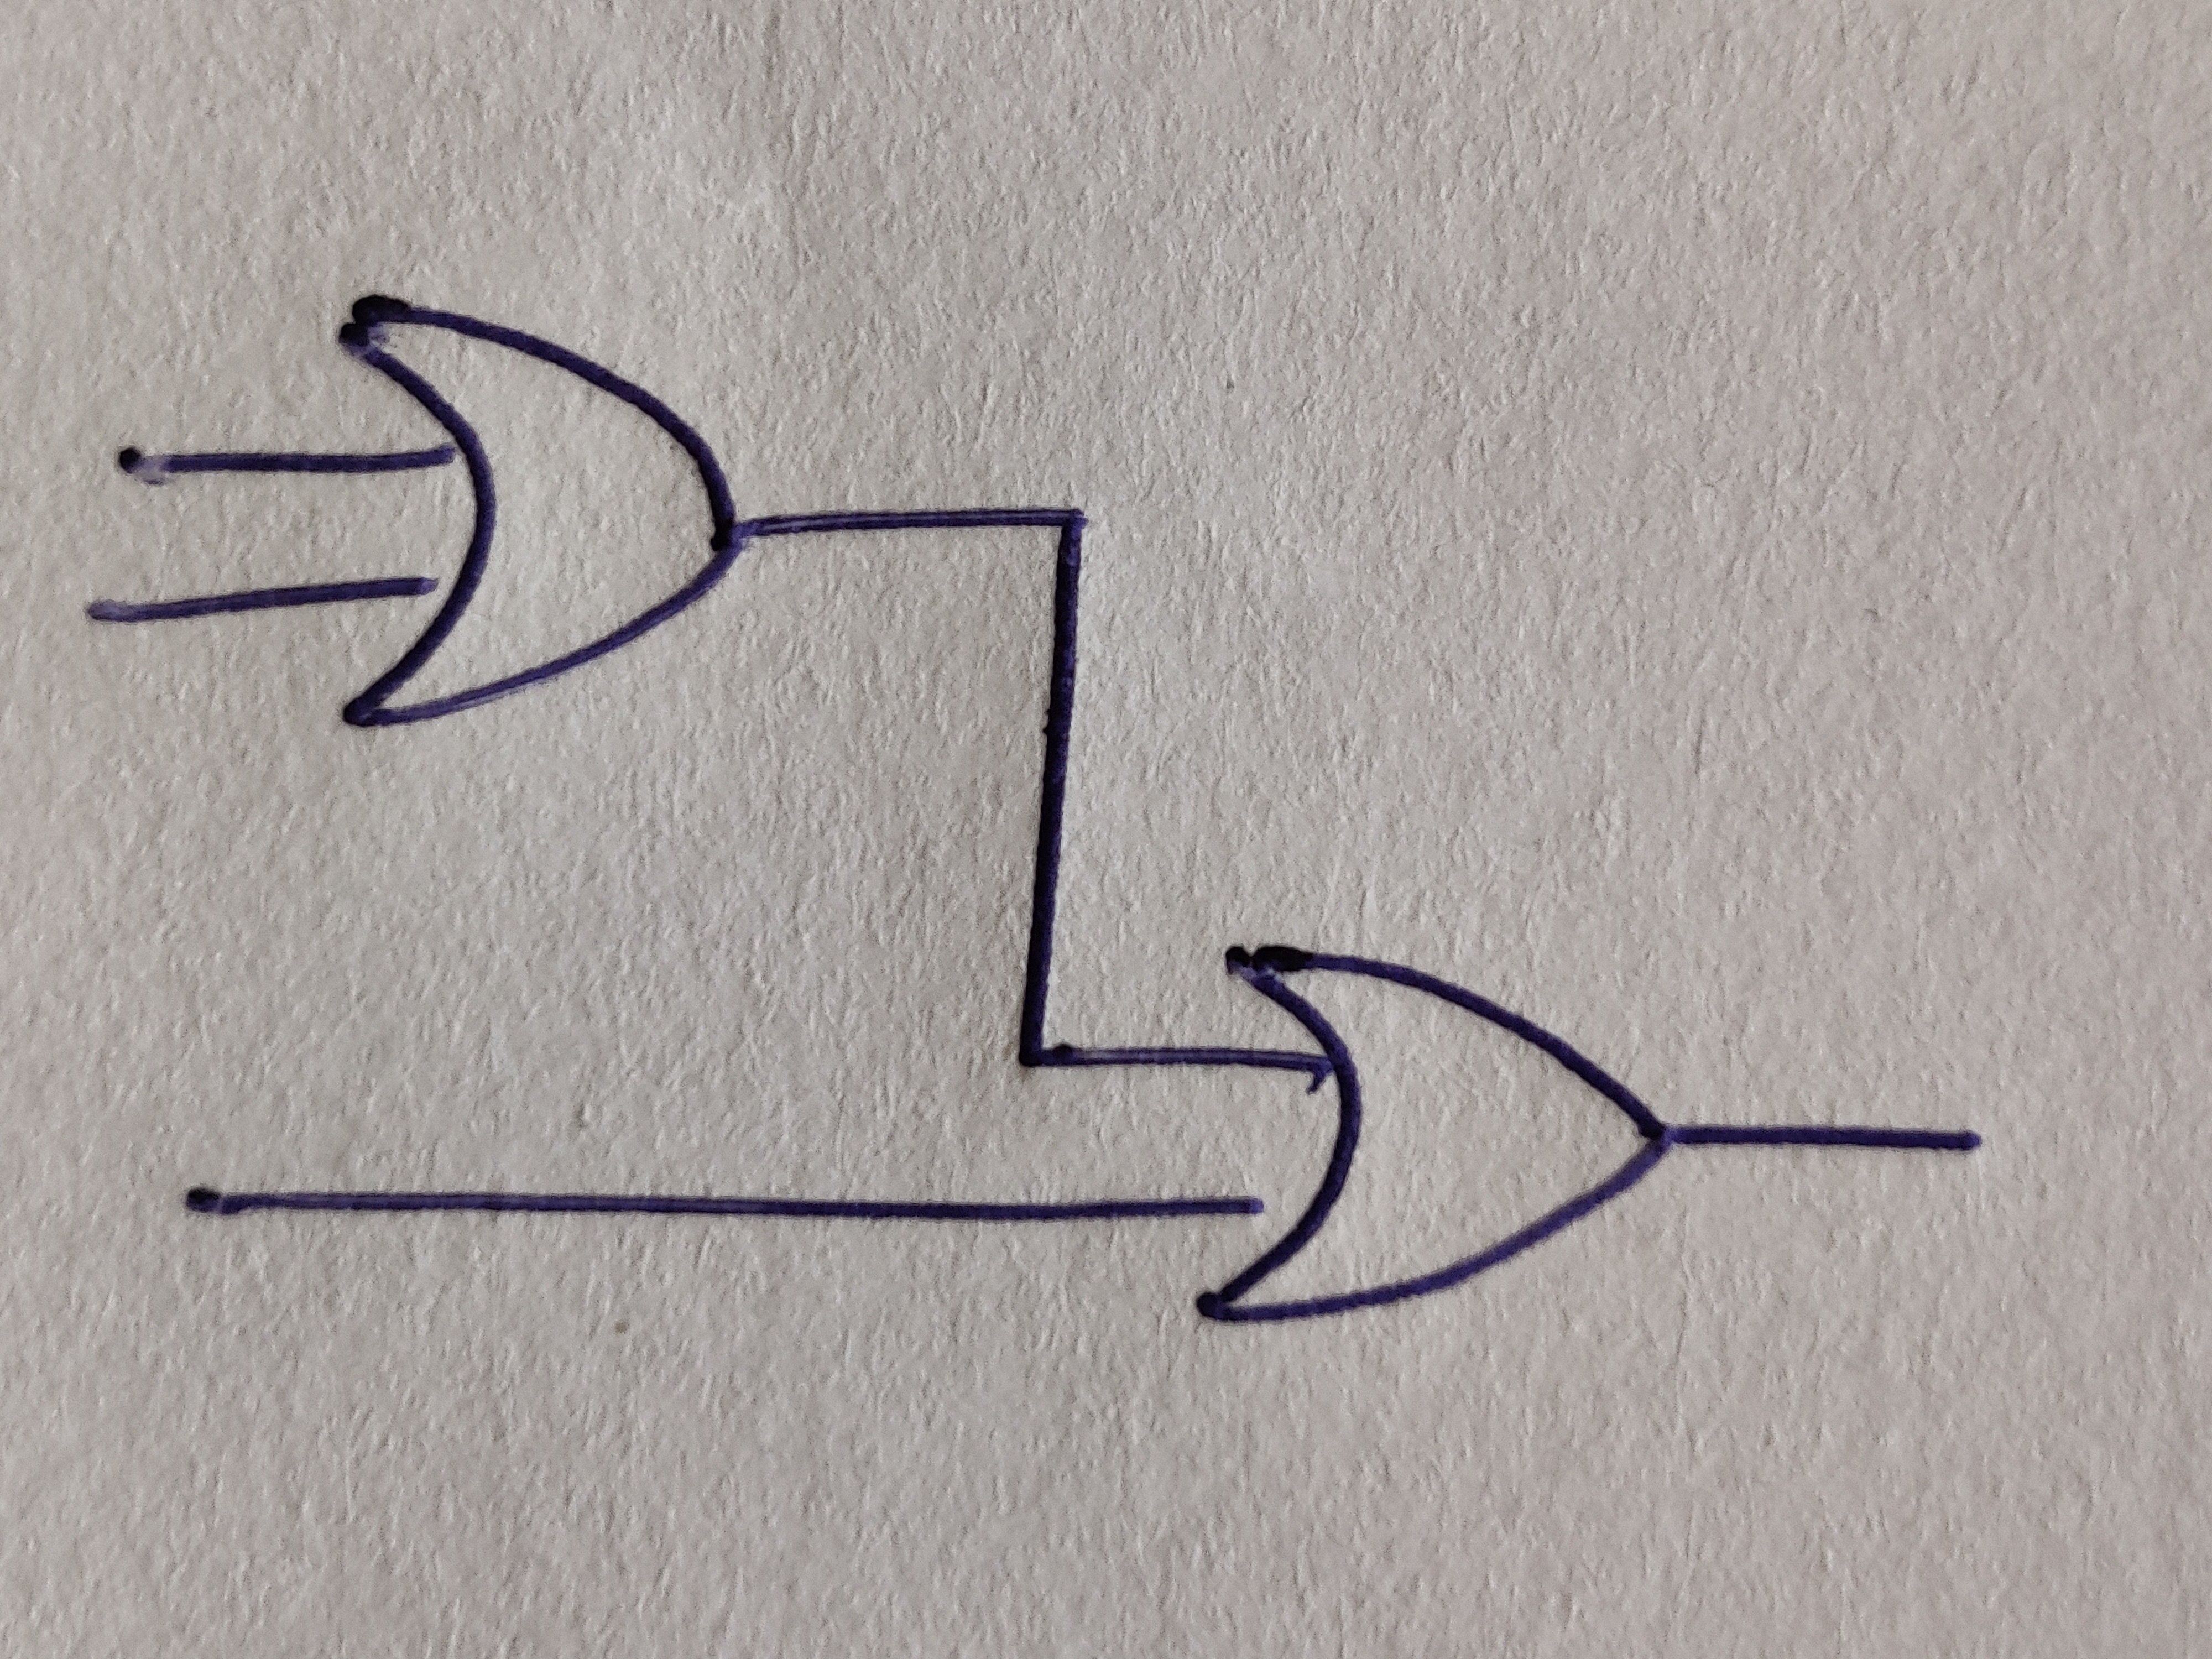or: (1195, 945, 1672, 1323), (338, 296, 740, 728)
